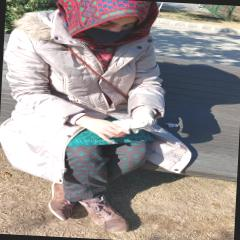gloved: (128, 106, 156, 131)
not-gloved: (76, 116, 128, 145)
